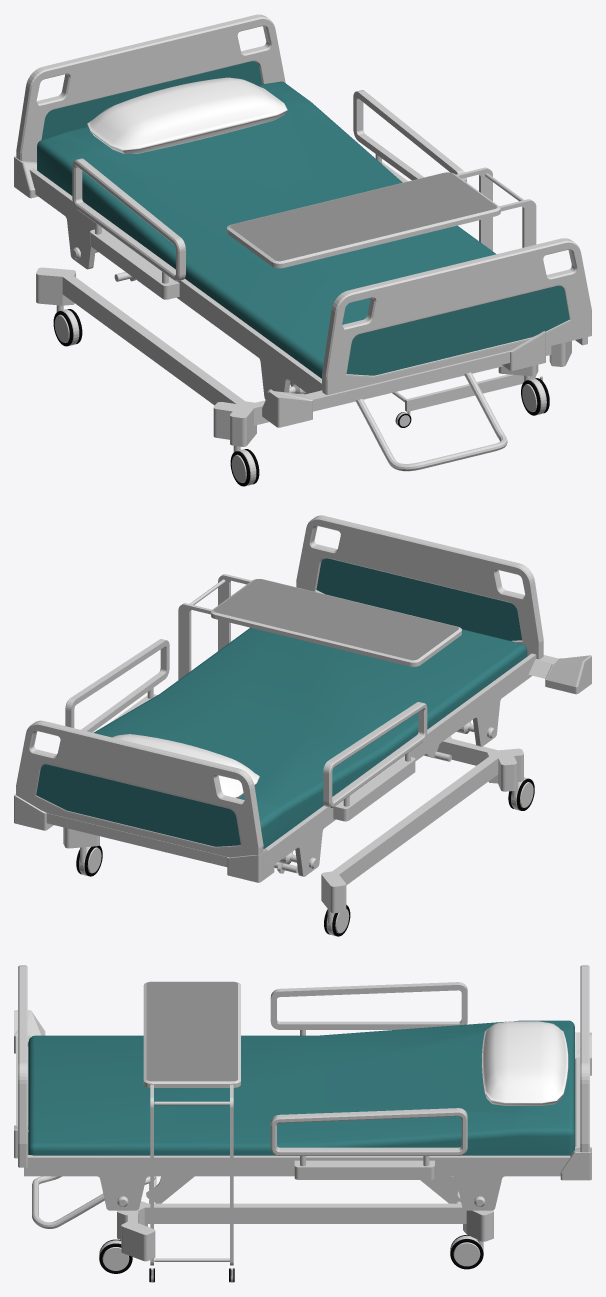
Rendered from hospitalBed.dae.
3 views of the same model, one above another, from view 1: azimuth 30°, elevation 25°; view 2: azimuth 150°, elevation 25°; view 3: azimuth 270°, elevation 25° (orthographic). The views are drawn at different scales.
Visible parts, largest first — view 1: ChamferBox, Rectangle8 (×4), Rectangle5 (×6), Rectangl11 (×2), Box01, Rectangl10, Rectangle7, Rectangl12 (×2), Rectangle6, Rectangle9, Rectangle2; view 2: Rectangle8 (×4), ChamferBox, Rectangle5 (×6), Rectangl11 (×2), Rectangl10 (×2), Rectangle2, Rectangl12 (×2), Rectangle7, Box01, Rectangle9; view 3: ChamferBox, Rectangle5 (×6), Rectangl11 (×2), Rectangl10, Box01, Rectangle8 (×2), Rectangle2, Rectangl12 (×2), Rectangle9, Rectangle6, Rectangle7, Rectangle0 (+3 smaller).
Boxes of the visible parts, x1,y1,x2,y2 form: ChamferBox: (37, 81, 496, 378); Rectangle8 (×4): (16, 14, 591, 394); Rectangle5 (×6): (29, 90, 466, 407); Rectangl11 (×2): (227, 172, 500, 268); Box01: (87, 77, 287, 153); Rectangl10: (36, 267, 256, 446); Rectangle7: (262, 331, 545, 427); Rectangl12 (×2): (405, 167, 536, 411); Rectangle6: (355, 372, 507, 471); Rectangle9: (213, 341, 571, 439); Rectangle2: (14, 155, 37, 198); Rectangle8 (×4): (16, 515, 543, 857); ChamferBox: (57, 627, 527, 848); Rectangle5 (×6): (65, 639, 536, 876); Rectangl11 (×2): (211, 579, 461, 666); Rectangl10 (×2): (63, 748, 523, 913); Rectangle2: (14, 794, 274, 882); Rectangl12 (×2): (178, 574, 251, 679); Rectangle7: (528, 655, 591, 694); Box01: (112, 734, 259, 798); Rectangle9: (437, 738, 516, 791); ChamferBox: (28, 1020, 574, 1155); Rectangle5 (×6): (24, 982, 570, 1210); Rectangl11 (×2): (143, 981, 240, 1087); Rectangl10: (117, 1201, 493, 1241); Box01: (481, 1021, 568, 1105); Rectangle8 (×2): (18, 965, 589, 1167); Rectangle2: (560, 1032, 591, 1180); Rectangl12 (×2): (150, 1084, 233, 1265); Rectangle9: (121, 1210, 155, 1261); Rectangle6: (32, 1176, 155, 1228); Rectangle7: (14, 1010, 45, 1158); Rectangle0: (146, 1176, 194, 1203).
Size of the model in its own units: 57.98 by 86.51 by 33.03.
